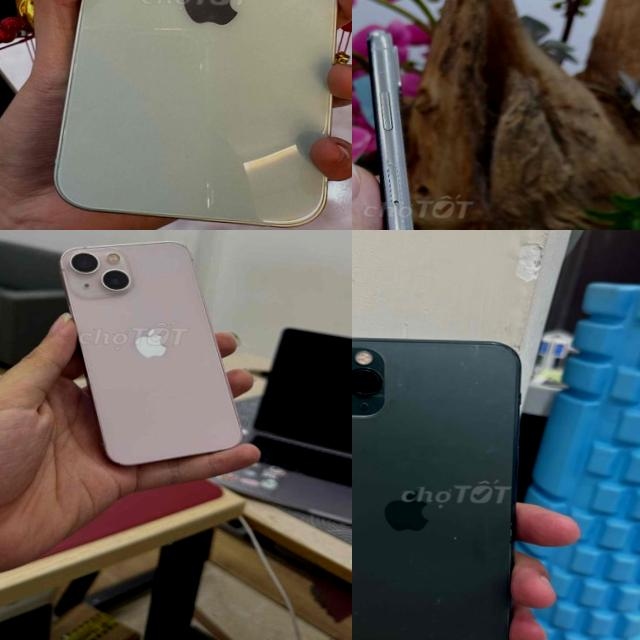gen_11: (352, 329, 551, 640)
gen_12_13: (47, 0, 350, 230), (51, 240, 248, 472)
gen_x_xs: (352, 21, 449, 230)
